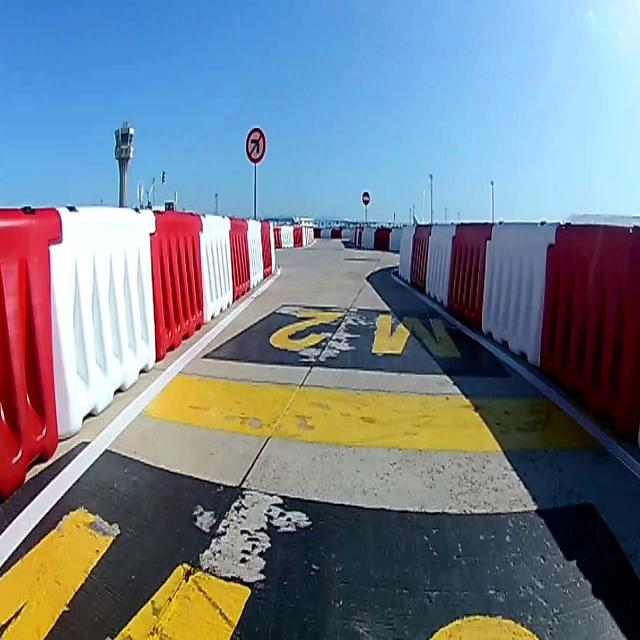girisyok: (361, 190, 371, 206)
soladonulmez: (247, 129, 266, 163)
